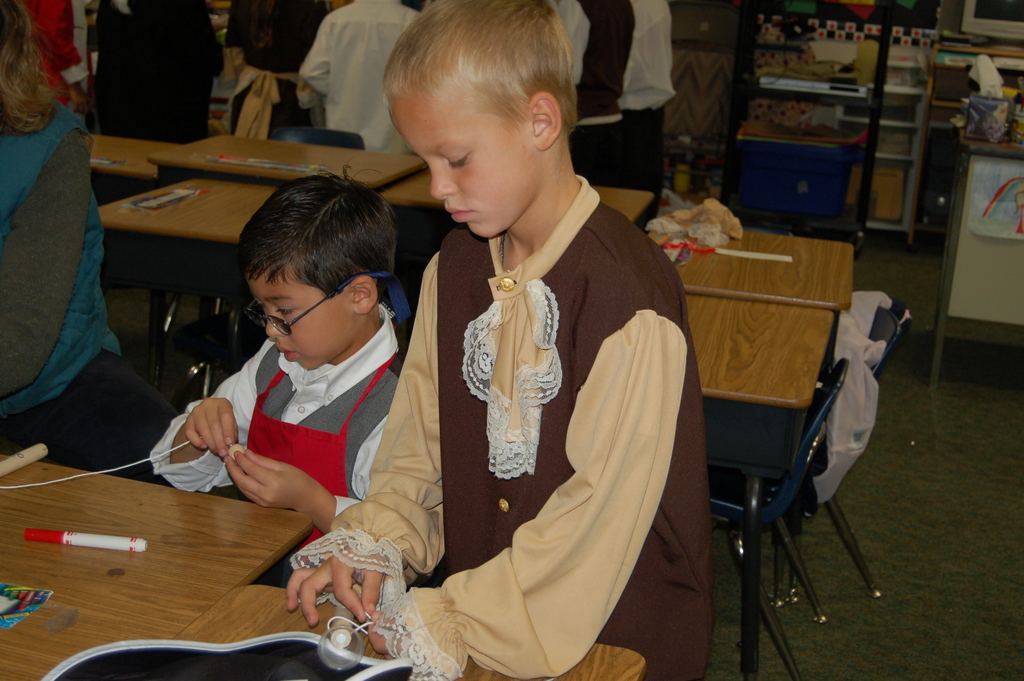Human_hand: (286, 545, 392, 631), (223, 447, 316, 516), (184, 397, 241, 461), (371, 614, 413, 660)
